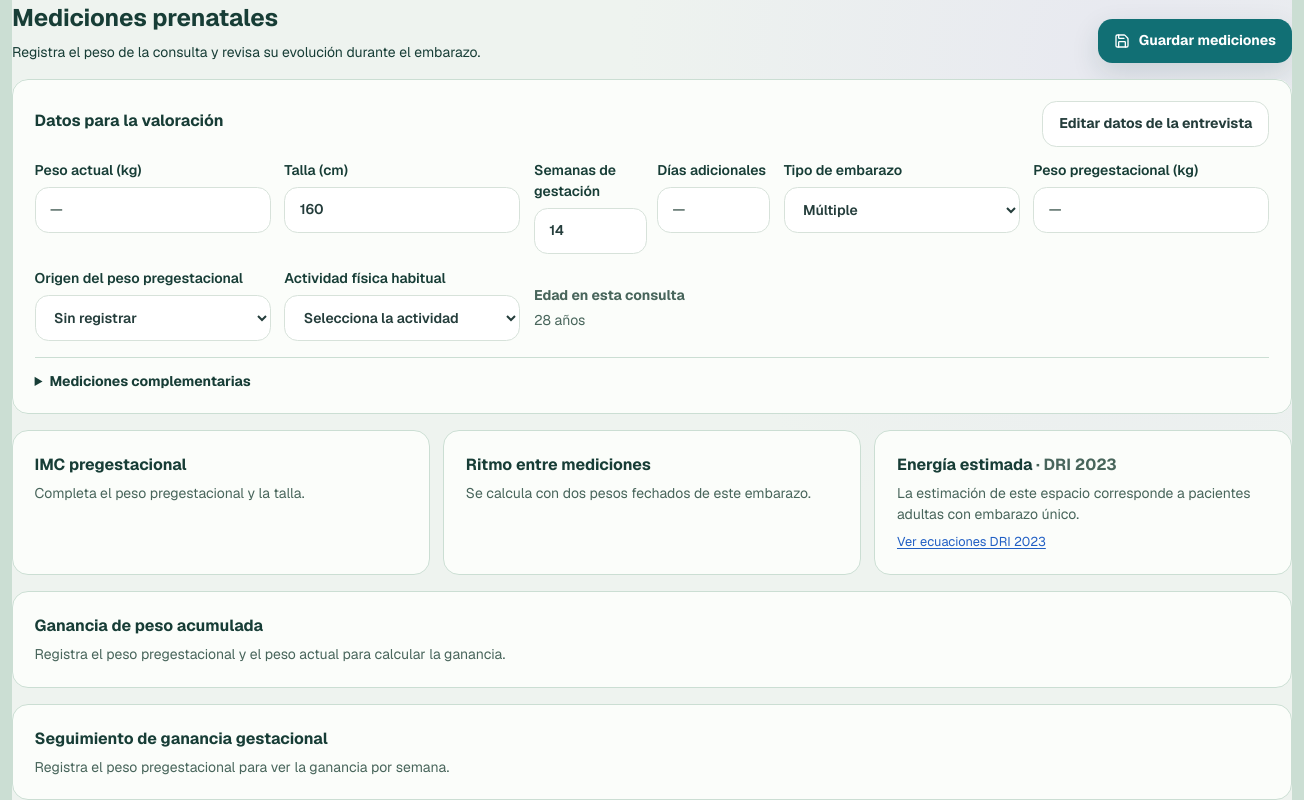
Test: private prenatal workspace › keeps the observed gain and explains why the reference is unavailable for multiple pregnancies
The width and height of the screenshot is (1304, 800).
Expected: the heading "Mediciones prenatales" is shown, [12,2,278,33]
Type "62" into the field labelled "Peso actual (kg)" at (153, 210), box [35,187,271,233]
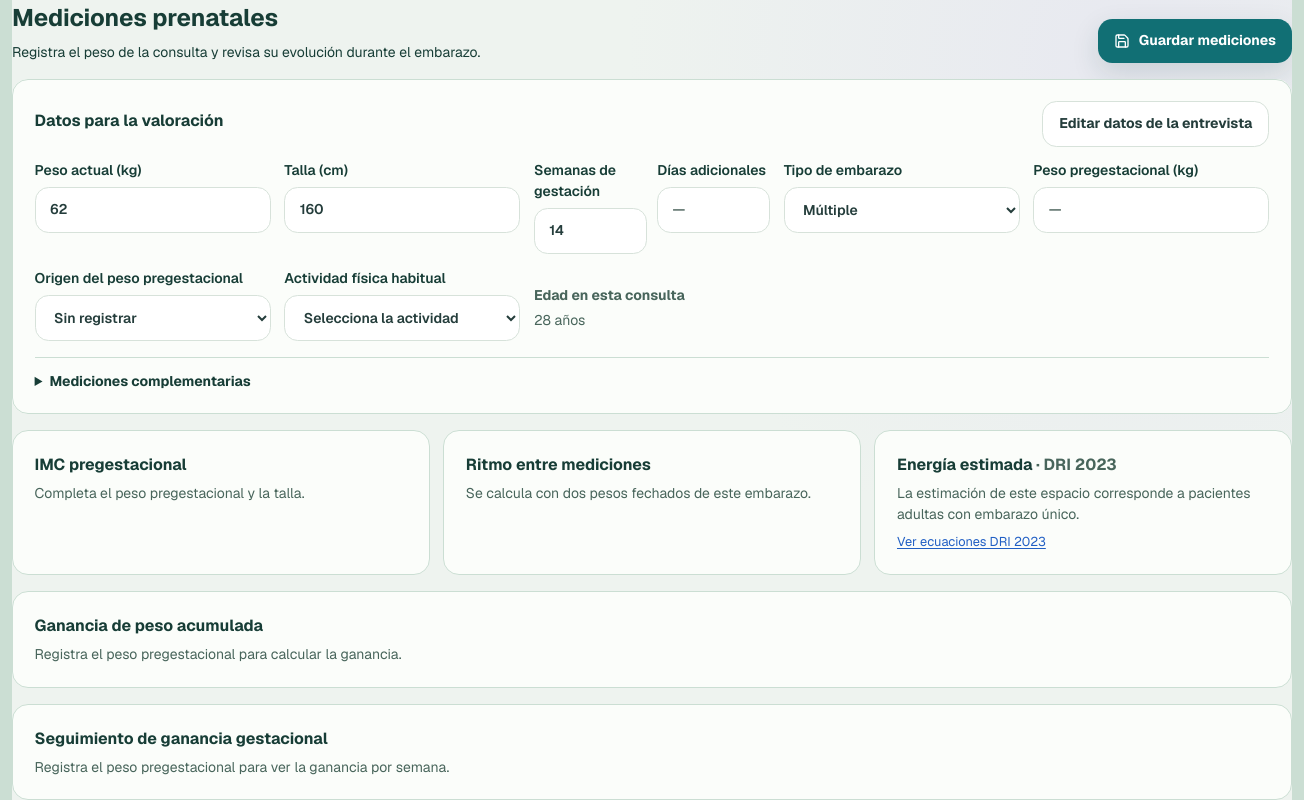
Type "60" into the field labelled "Peso pregestacional (kg)" at (1151, 210), box [1033,187,1269,233]
(page scrolled)
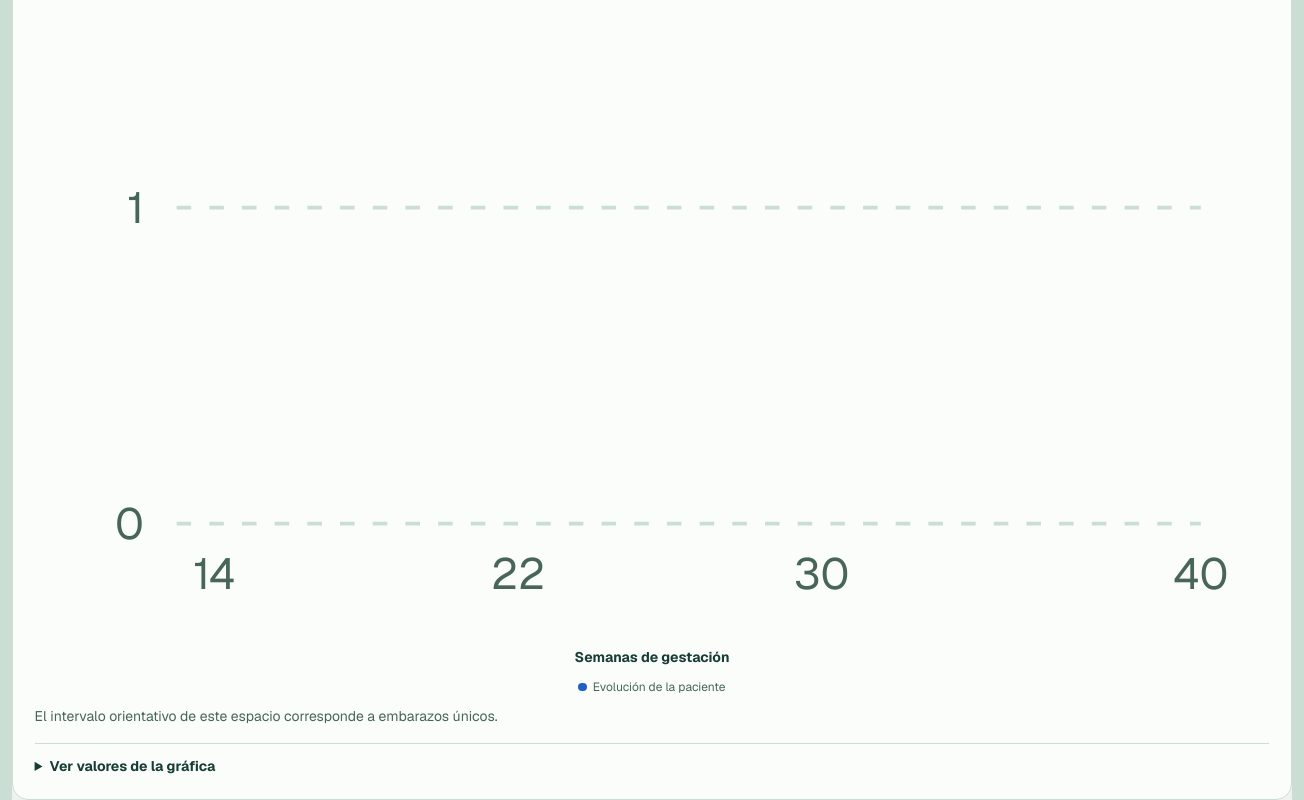
Expected: the text "El intervalo orientativo de este espacio corresponde a embarazos únicos." is shown, [35,706,498,724]
Expected: the text "Evolución de la paciente" is shown, [578,678,726,696]
